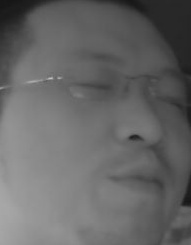blink: (78, 77, 109, 91)
glass: (63, 64, 131, 102)
mouth: (111, 161, 168, 196)
